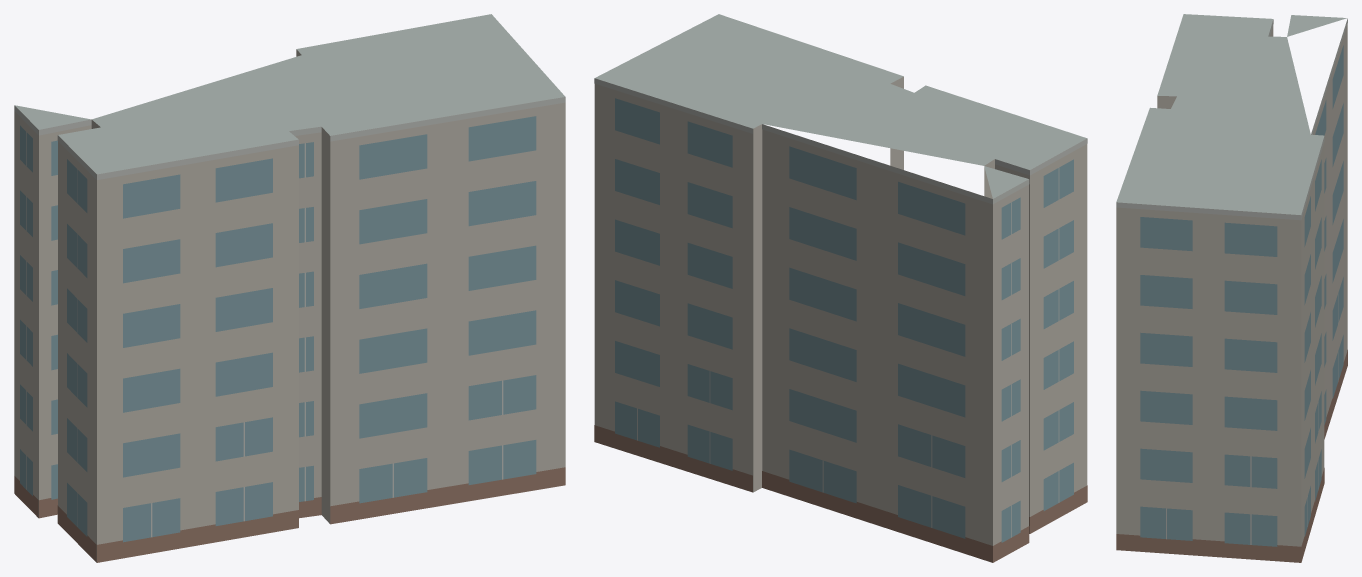
Rendered from survey-upis-32522990.glb.
3 views of the same model, side by side, from view 1: azimuth 30°, elevation 25°; view 2: azimuth 150°, elevation 25°; view 3: azimuth 270°, elevation 25° (orthographic). The views are drawn at different scales.
Parts seen in each view (by area): view 1: survey-upis-32522990.tmp; view 2: survey-upis-32522990.tmp; view 3: survey-upis-32522990.tmp.
Boxes of the visible parts, bbox=[...] form: survey-upis-32522990.tmp: bbox=[14, 14, 565, 562]; survey-upis-32522990.tmp: bbox=[594, 14, 1087, 562]; survey-upis-32522990.tmp: bbox=[1116, 14, 1347, 562].
Bounding box in the file's own units: 20.61 × 16.6 × 10.03.
